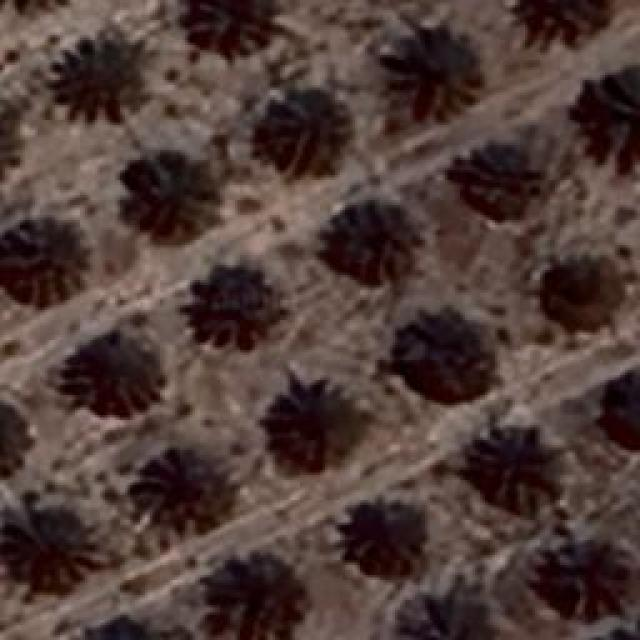PalmTree: (256, 96, 364, 184), (390, 315, 490, 403), (320, 201, 420, 284), (212, 550, 302, 640), (188, 265, 278, 353), (472, 426, 558, 514), (444, 139, 538, 219), (120, 155, 215, 233), (56, 44, 146, 124), (0, 218, 90, 294), (150, 446, 232, 529), (549, 542, 639, 616), (72, 338, 158, 414), (268, 385, 354, 460), (12, 511, 90, 591), (394, 40, 482, 110), (542, 252, 622, 328), (184, 0, 282, 60), (346, 500, 426, 572), (16, 80, 32, 435), (394, 585, 488, 640), (587, 77, 640, 162), (522, 0, 602, 50), (76, 615, 176, 640), (612, 378, 640, 448), (76, 623, 173, 640), (0, 0, 80, 17), (588, 614, 640, 640), (0, 94, 15, 183), (0, 0, 84, 10)
